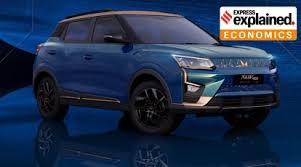XUV 400: (31, 8, 282, 137)
